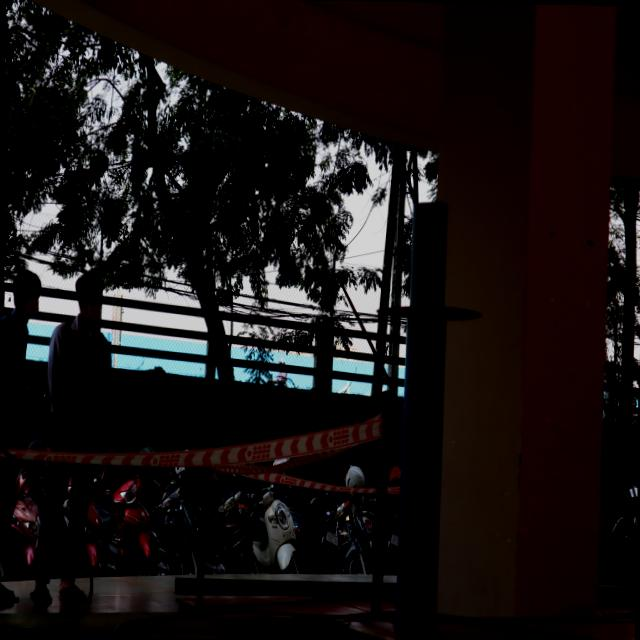pole: (378, 204, 478, 391)
